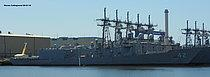MIL_Ship: (8, 30, 202, 65)
